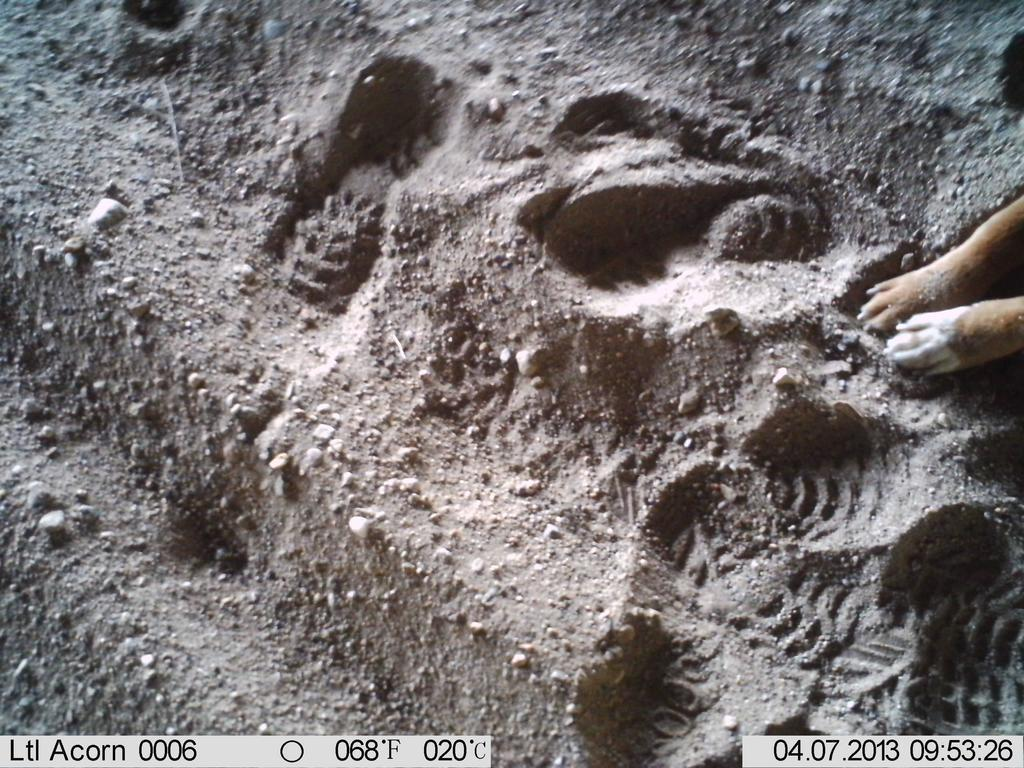dog: (848, 163, 1021, 409)
